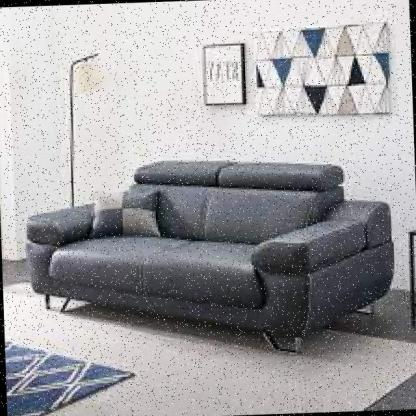Sofa: (8, 126, 410, 379)
